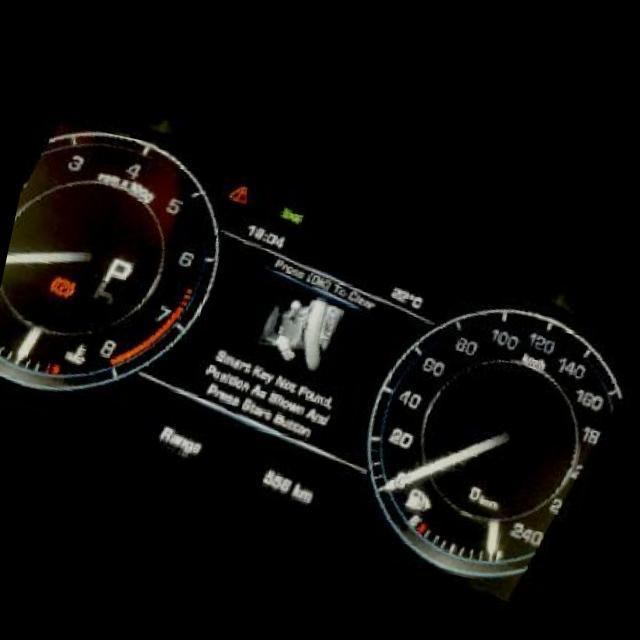Engine cooling system: (60, 336, 97, 373)
Low fuel level: (400, 488, 430, 522)
